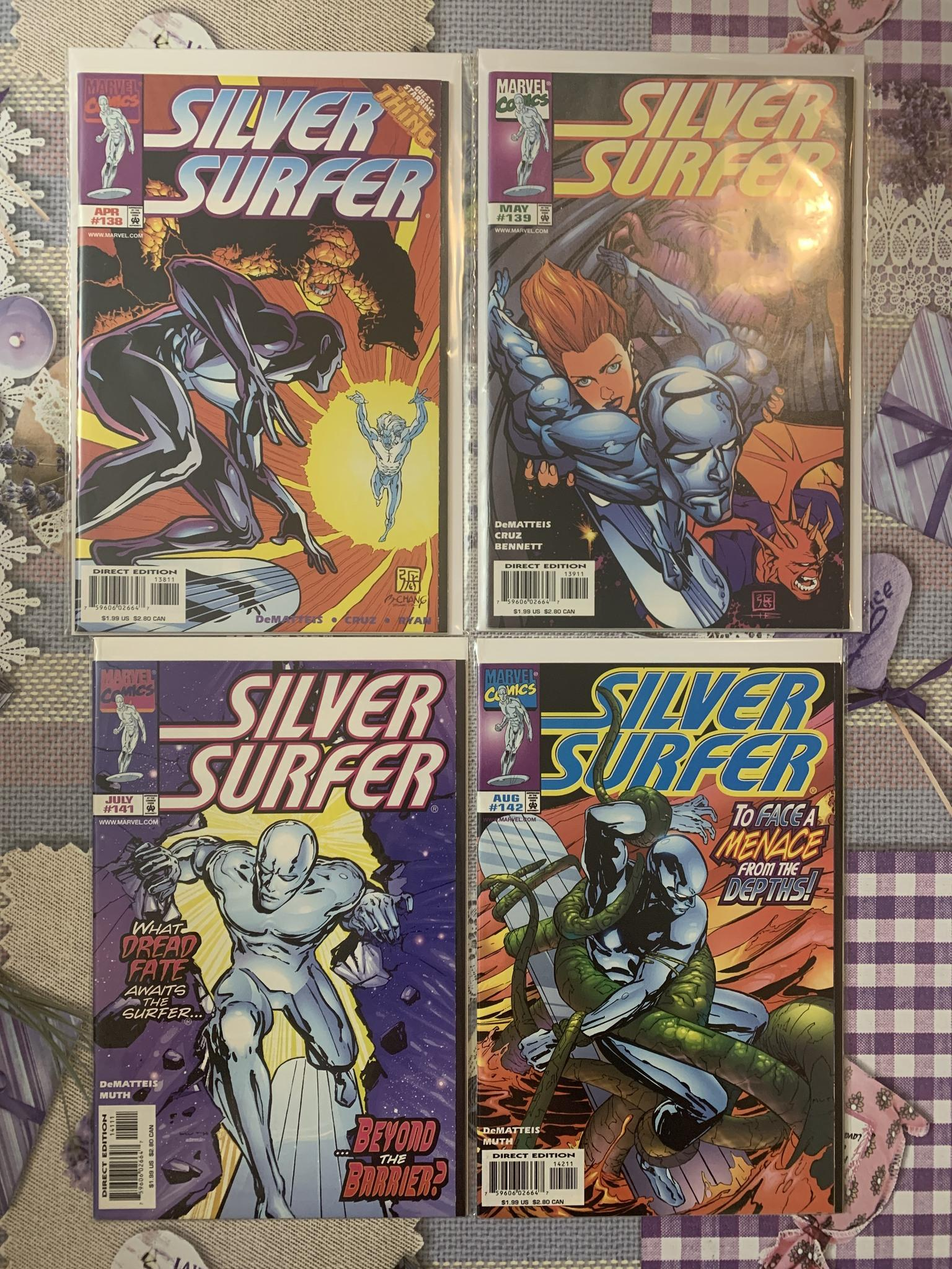comic: (70, 50, 461, 633), (475, 52, 866, 632), (93, 637, 467, 1219), (477, 638, 842, 1217)
